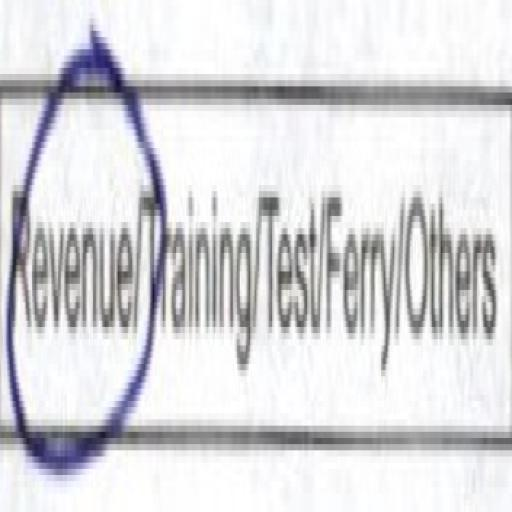check: (4, 0, 143, 512)
